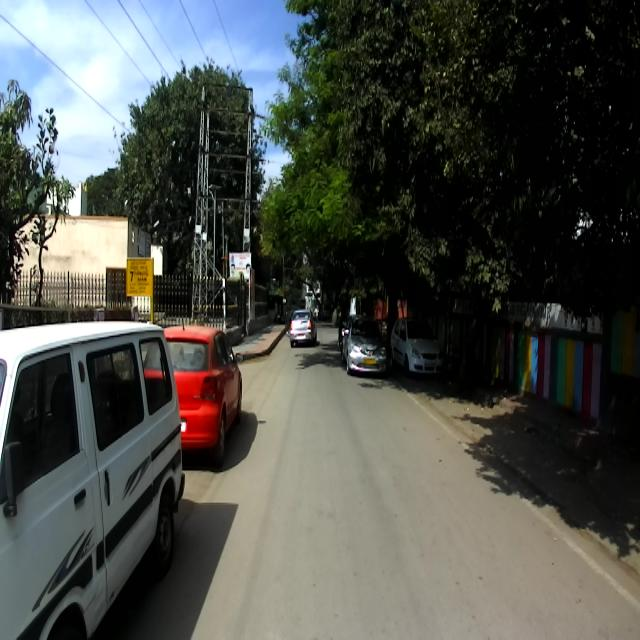car ahead at: (2, 326, 181, 640), (186, 328, 247, 459)
